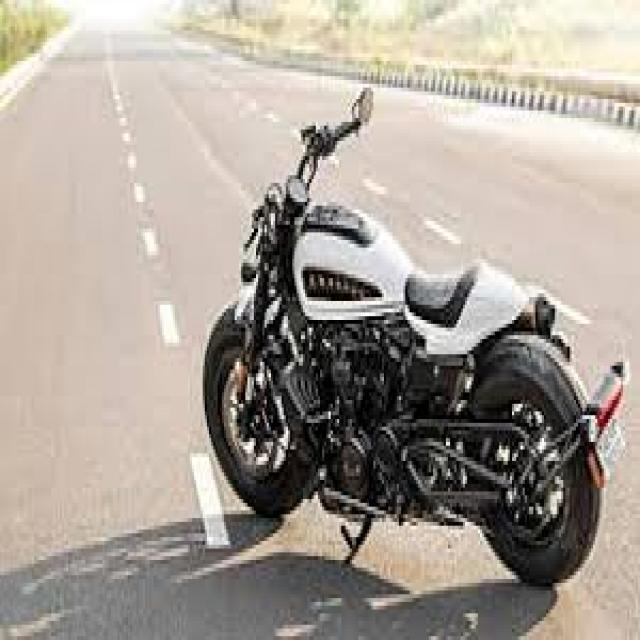Bike: (204, 104, 611, 586)
